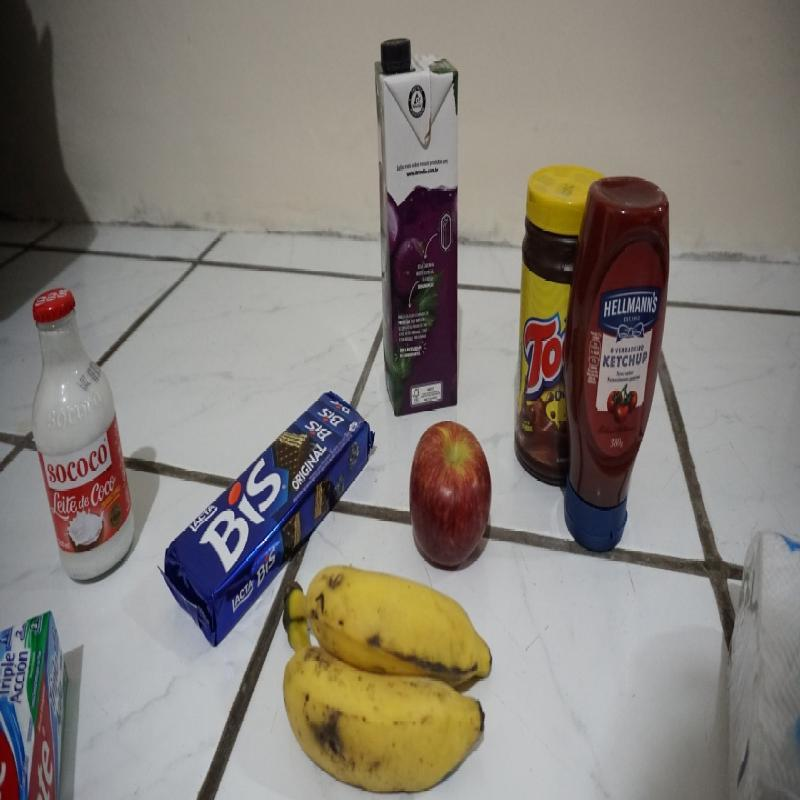Apple: (410, 420, 492, 568)
Banana: (280, 564, 494, 796)
Chocolate Powder: (512, 162, 577, 485)
Coconut Milk: (30, 287, 134, 584)
Ketchup: (563, 175, 672, 555)
Toothpaste: (0, 609, 71, 800)
